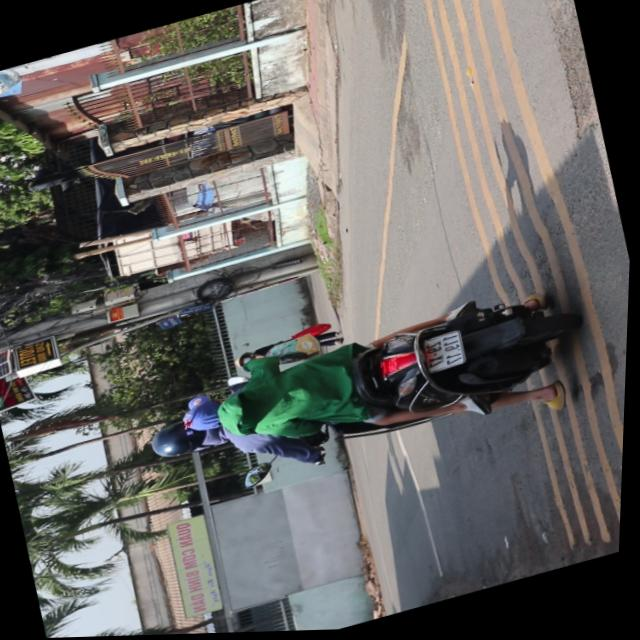helmet: (146, 413, 217, 463)
licenseplate: (125, 258, 602, 514)
motorcyclist: (181, 391, 238, 435)
nohelmet: (425, 330, 469, 373)
